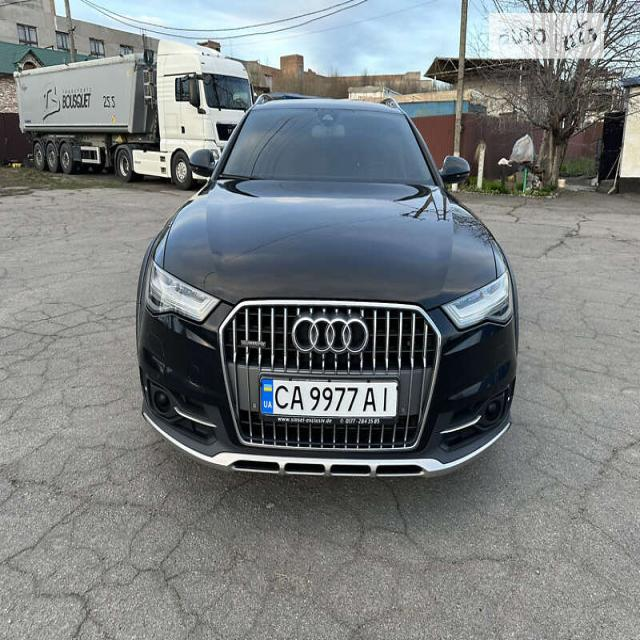plate: (257, 374, 404, 433)
